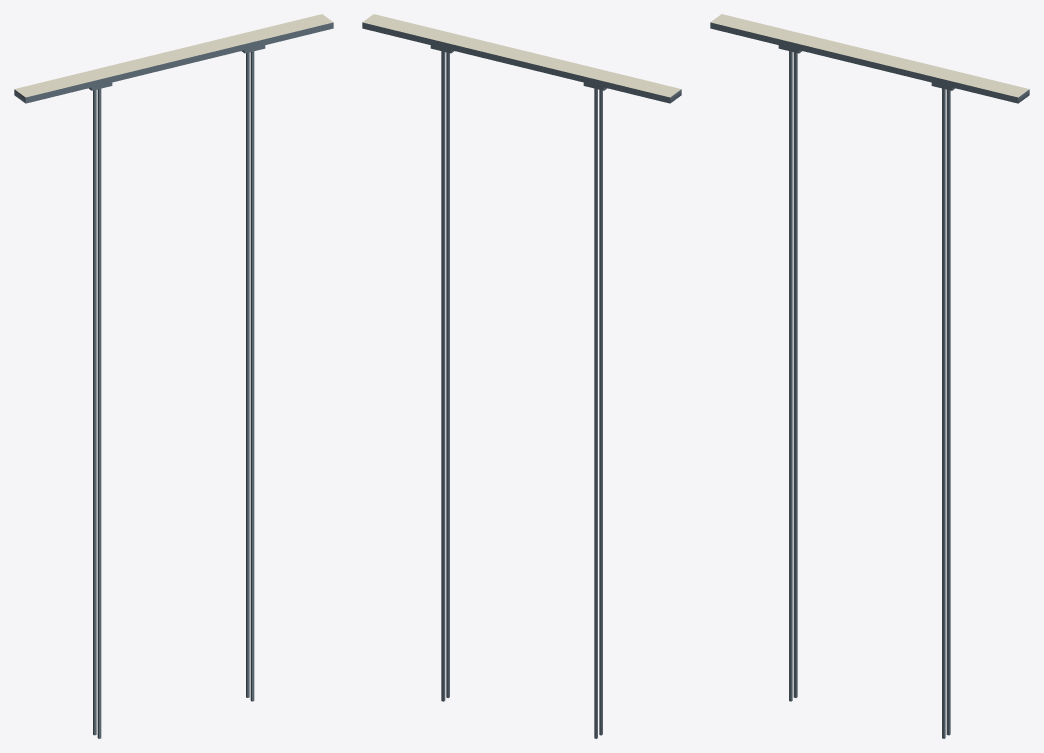
File: Extended Bridge.fbx
3 renders of one model, left to right at view 1: azimuth 30°, elevation 25°; view 2: azimuth 150°, elevation 25°; view 3: azimuth 330°, elevation 25°, orthographic.
Parts seen in each view (by area): view 1: Cube.119; view 2: Cube.119; view 3: Cube.119.
Boxes of the visible parts, left/top/right/bottom form: Cube.119: left=14, top=14, right=333, bottom=738; Cube.119: left=362, top=14, right=681, bottom=738; Cube.119: left=710, top=14, right=1029, bottom=738.
Size of the model in its own units: 1431 by 2938 by 92.39.
